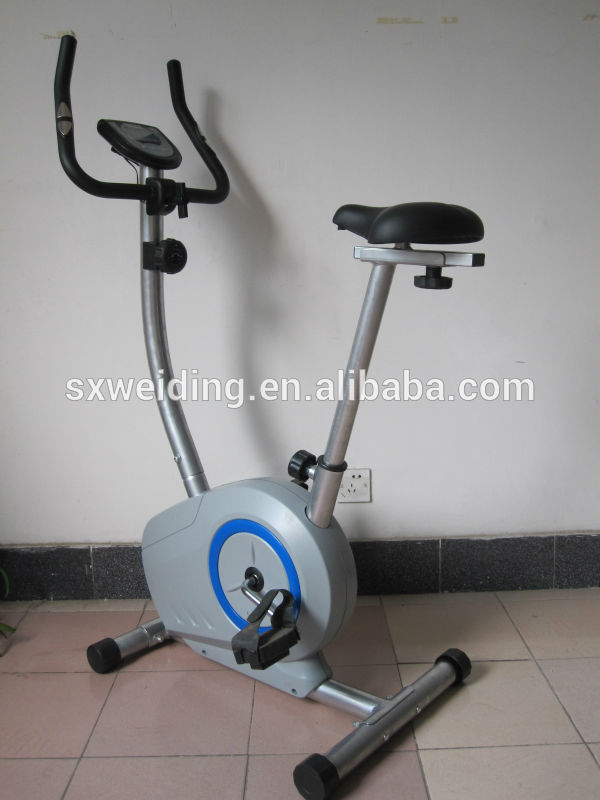gym_bike: (34, 33, 505, 786)
